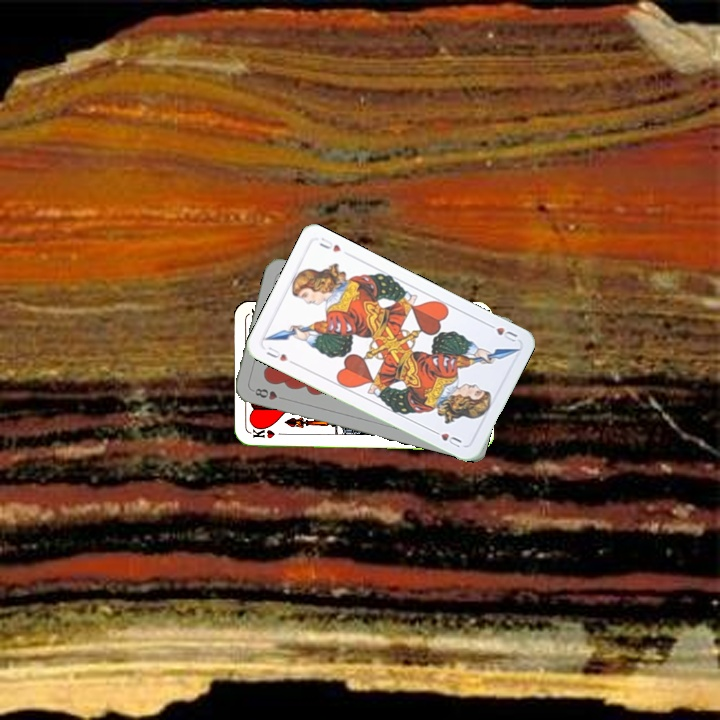H8: (248, 384, 280, 402)
HK: (249, 426, 289, 441)
HU: (483, 319, 520, 345), (262, 342, 291, 364)
